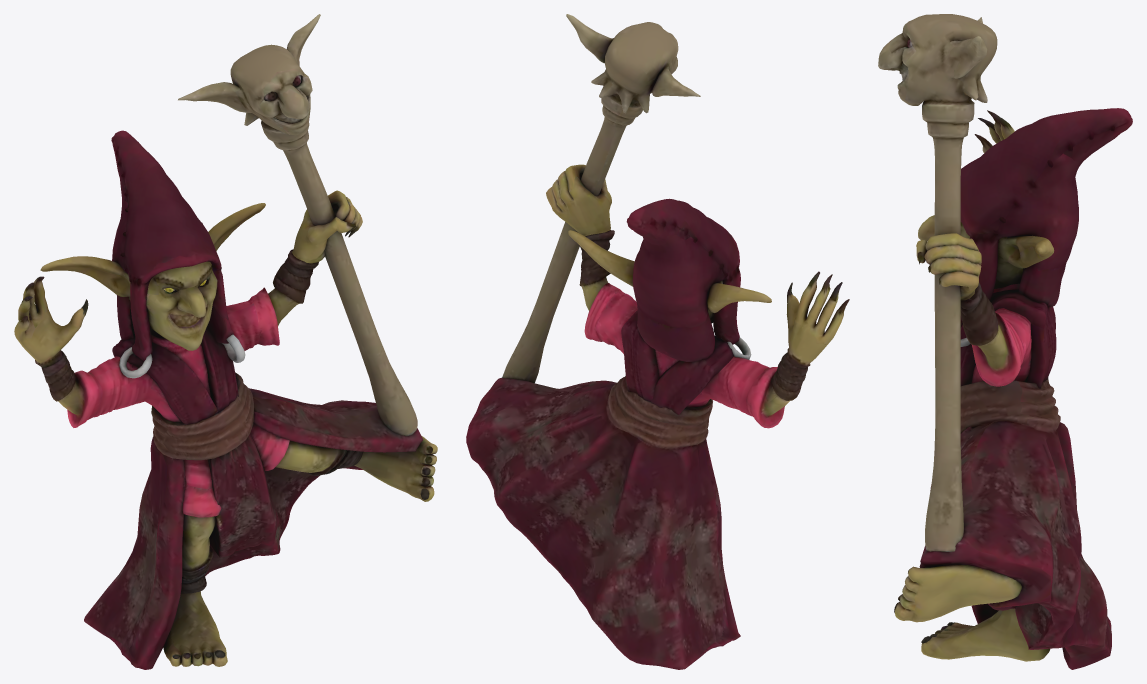
The model's file is MZ4250 - Nilbog3.glb.
The picture shows the model from 3 angles, left to right: view 1: azimuth 30°, elevation 25°; view 2: azimuth 150°, elevation 25°; view 3: azimuth 270°, elevation 25°; orthographic projection. The views are drawn at different scales.
Visible parts, largest first — view 1: Torus.002; view 2: Torus.002; view 3: Torus.002.
Boxes of the visible parts, box(x1,y1,x2,y2) form: Torus.002: box(14, 14, 437, 669); Torus.002: box(466, 14, 849, 669); Torus.002: box(878, 14, 1132, 669).
Size of the model in its own units: 59.85 by 91.8 by 30.35.
1 material, 1 textured.
